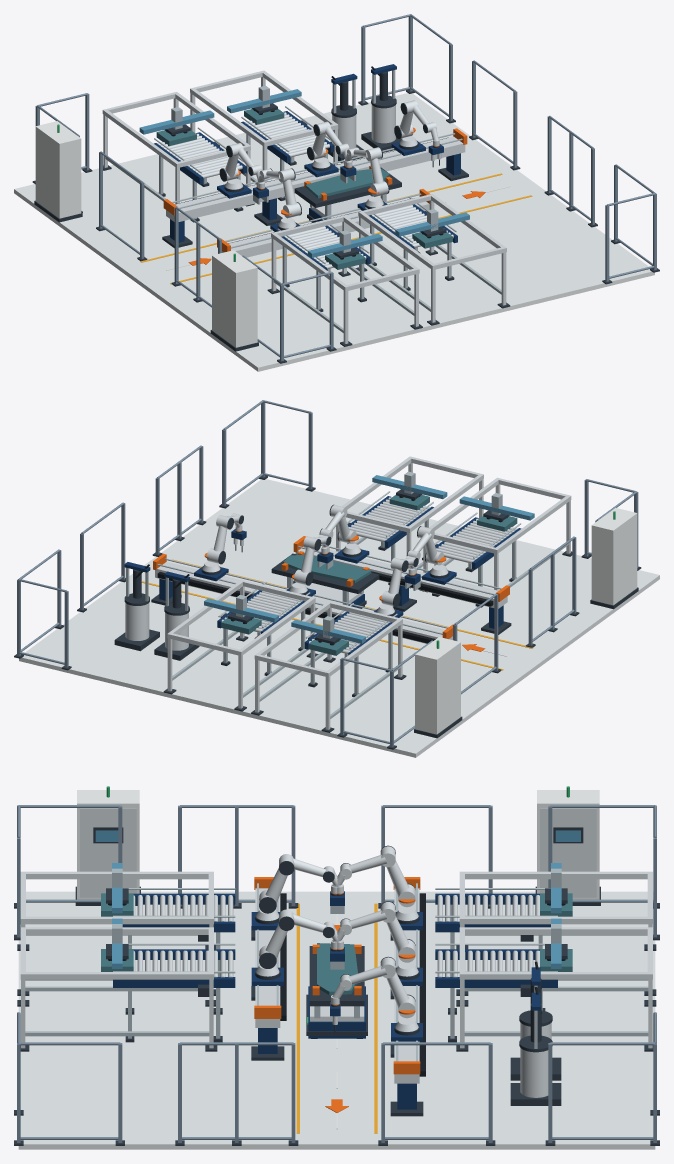
The model's file is PRESS.glb.
3 renders of one model, top to bottom at view 1: azimuth 30°, elevation 25°; view 2: azimuth 150°, elevation 25°; view 3: azimuth 270°, elevation 25°, orthographic. The views are drawn at different scales.
Parts seen in each view (by area): view 1: ZoneBase_001.001, Enclosure_001.003, Enclosure_001.002, MainBeam_001.002, MainBeam_001.003, MAIN_panel_concept_014.001, MainJig_013.001, Drum_002.001, Side_005.008, Side_005.010, Side_005.014, CrossAxis_017.004 (+10 smaller); view 2: ZoneBase_001.001, Enclosure_001.002, Enclosure_001.003, MainBeam_001.003, MainBeam_001.002, MAIN_panel_concept_014.001, MainJig_013.001, Drum_002.001, CableCarrier_006.002, CableCarrier_006.003, Side_005.010, Side_005.014 (+10 smaller); view 3: ZoneBase_001.001, Door_003.002, Door_003.003, Side_005.013, Side_005.009, Enclosure_001.002, Enclosure_001.003, Side_005.012, Side_005.008, Side_005.015, Side_005.011, MainBeam_001.002 (+26 smaller).
Part boxes in pixels (left/top/right/bottom): ZoneBase_001.001: left=14, top=93, right=654, bottom=371; Enclosure_001.003: left=35, top=121, right=81, bottom=218; Enclosure_001.002: left=212, top=250, right=257, bottom=347; MainBeam_001.002: left=166, top=136, right=465, bottom=221; MainBeam_001.003: left=222, top=201, right=429, bottom=257; MAIN_panel_concept_014.001: left=305, top=168, right=389, bottom=198; MainJig_013.001: left=294, top=167, right=401, bottom=207; Drum_002.001: left=371, top=105, right=395, bottom=143; Side_005.008: left=102, top=109, right=180, bottom=168; Side_005.010: left=190, top=88, right=267, bottom=146; Side_005.014: left=358, top=211, right=435, bottom=270; CrossAxis_017.004: left=139, top=110, right=214, bottom=134; ZoneBase_001.001: left=19, top=479, right=659, bottom=757; Enclosure_001.002: left=591, top=508, right=637, bottom=605; Enclosure_001.003: left=415, top=637, right=460, bottom=734; MainBeam_001.003: left=295, top=546, right=507, bottom=608; MainBeam_001.002: left=155, top=562, right=452, bottom=643; MAIN_panel_concept_014.001: left=283, top=555, right=371, bottom=583; MainJig_013.001: left=271, top=553, right=379, bottom=593; Drum_002.001: left=125, top=603, right=149, bottom=640; CableCarrier_006.002: left=157, top=572, right=435, bottom=643; CableCarrier_006.003: left=371, top=571, right=493, bottom=606; Side_005.010: left=238, top=597, right=315, bottom=655; Side_005.014: left=407, top=473, right=483, bottom=532; ZoneBase_001.001: left=18, top=891, right=655, bottom=1149; Door_003.002: left=80, top=808, right=136, bottom=897; Door_003.003: left=540, top=808, right=596, bottom=897; Side_005.013: left=20, top=916, right=213, bottom=924; Side_005.009: left=459, top=916, right=652, bottom=924; Enclosure_001.002: left=77, top=790, right=139, bottom=899; Enclosure_001.003: left=537, top=790, right=599, bottom=899; Side_005.012: left=20, top=871, right=213, bottom=879; Side_005.008: left=459, top=871, right=652, bottom=879; Side_005.015: left=20, top=972, right=213, bottom=979; Side_005.011: left=459, top=972, right=652, bottom=979; MainBeam_001.002: left=394, top=888, right=419, bottom=1083.
Size of the model in its own units: 10.1 by 2.28 by 10.82.
